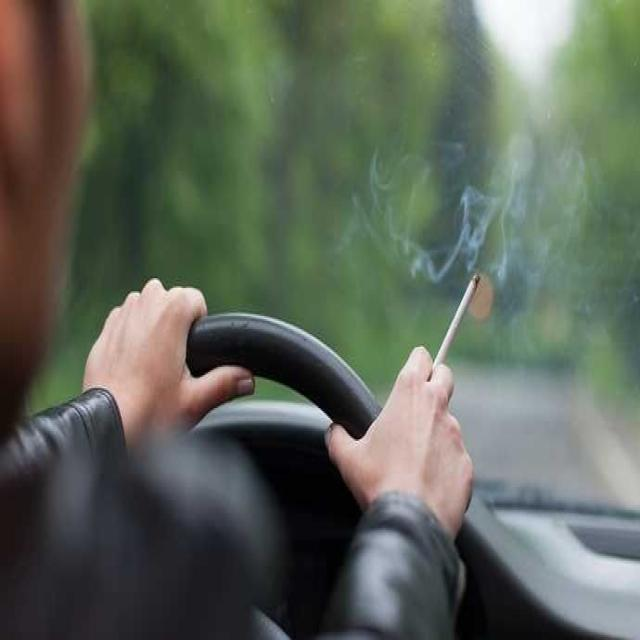Smooking: (429, 253, 484, 377)
